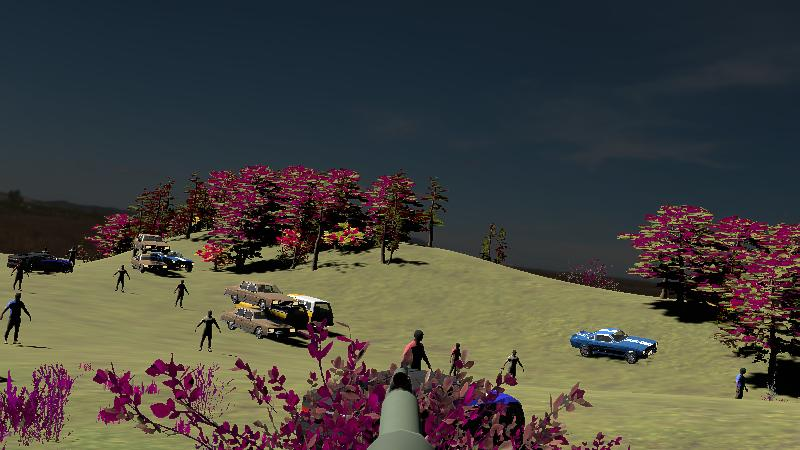car: (570, 327, 658, 364), (221, 302, 302, 341), (267, 294, 333, 340), (223, 279, 291, 315), (222, 279, 289, 313), (17, 251, 74, 275), (133, 234, 170, 257), (132, 251, 167, 274), (161, 249, 194, 272)
